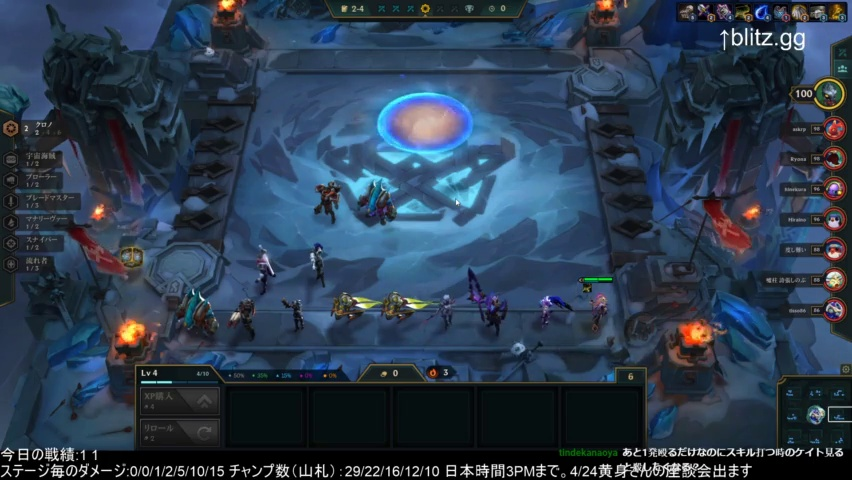lux:bow: (574, 274, 620, 345)
